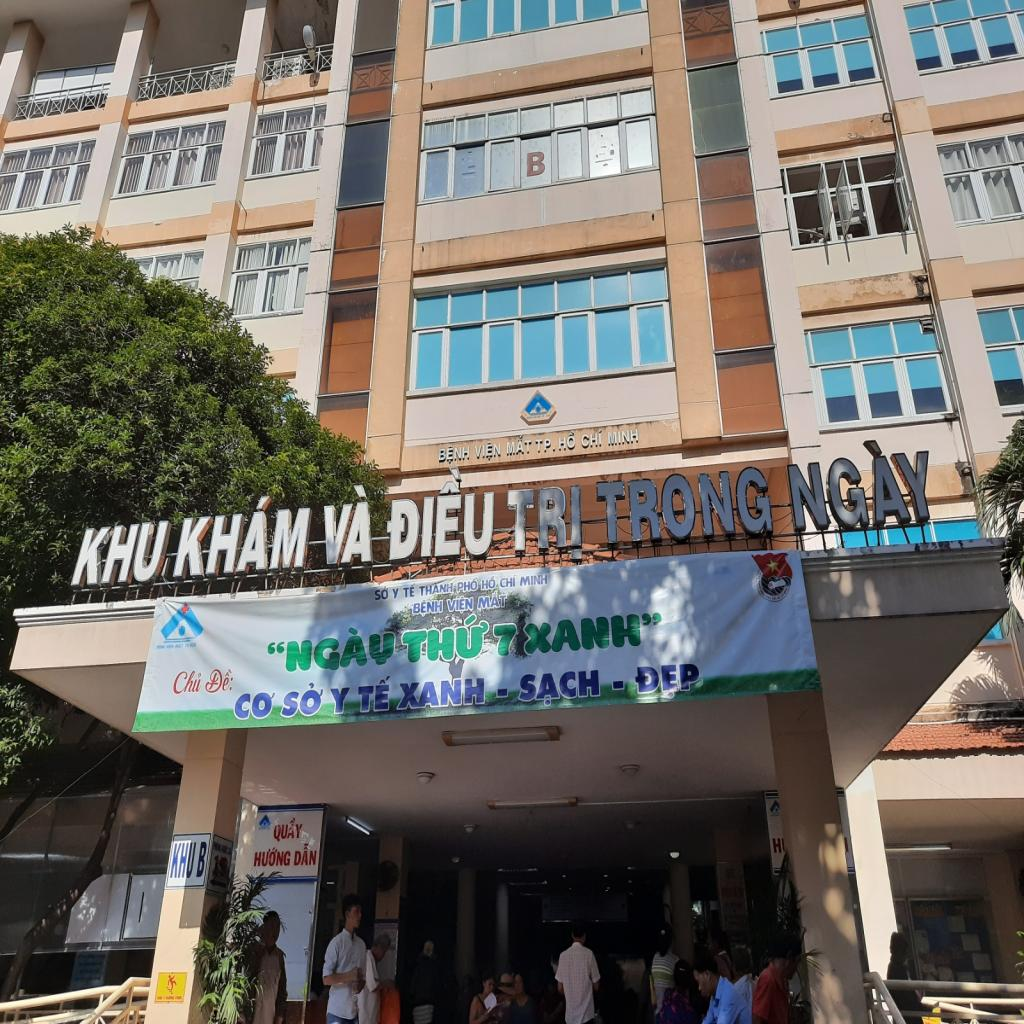text: (784, 429, 936, 534), (594, 462, 776, 548), (170, 492, 316, 584), (384, 465, 498, 567), (69, 519, 175, 590), (501, 481, 586, 566), (522, 607, 669, 656), (264, 620, 394, 672), (322, 486, 376, 572), (400, 613, 490, 664), (396, 674, 486, 714), (515, 668, 603, 708), (630, 657, 700, 699), (277, 682, 325, 718), (358, 672, 393, 716), (167, 838, 198, 883), (234, 687, 276, 720), (492, 620, 520, 664), (170, 660, 204, 696), (204, 663, 237, 695), (252, 845, 293, 869), (271, 814, 304, 841), (608, 425, 643, 450), (436, 440, 471, 464), (476, 589, 514, 611), (326, 684, 352, 716), (524, 146, 547, 180), (293, 840, 319, 870), (580, 425, 605, 455), (411, 598, 444, 620), (192, 838, 210, 878), (446, 594, 478, 616), (473, 440, 502, 464), (519, 569, 550, 590), (418, 581, 456, 598), (504, 436, 532, 459), (557, 428, 579, 456), (535, 437, 557, 458), (455, 577, 481, 594), (498, 574, 518, 590), (374, 584, 390, 602), (481, 574, 499, 590), (402, 583, 418, 599), (390, 585, 400, 601), (184, 639, 197, 651), (155, 642, 166, 652), (173, 642, 184, 650), (164, 643, 176, 650)
